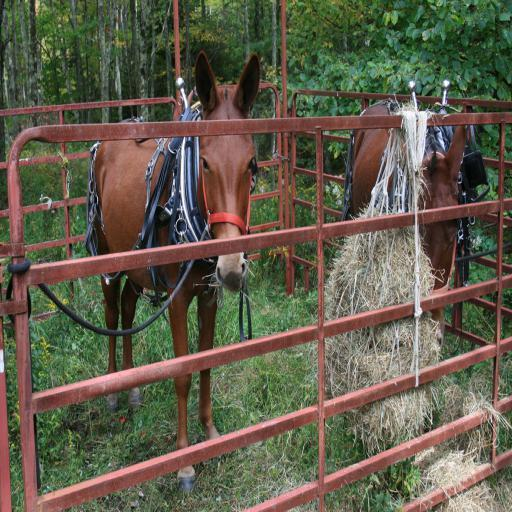horse: (87, 47, 262, 498), (348, 102, 468, 358)
